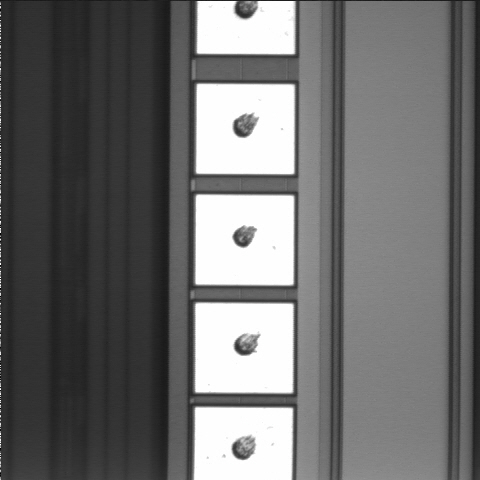pad: (196, 84, 295, 174), (195, 195, 294, 285), (195, 303, 293, 393)
